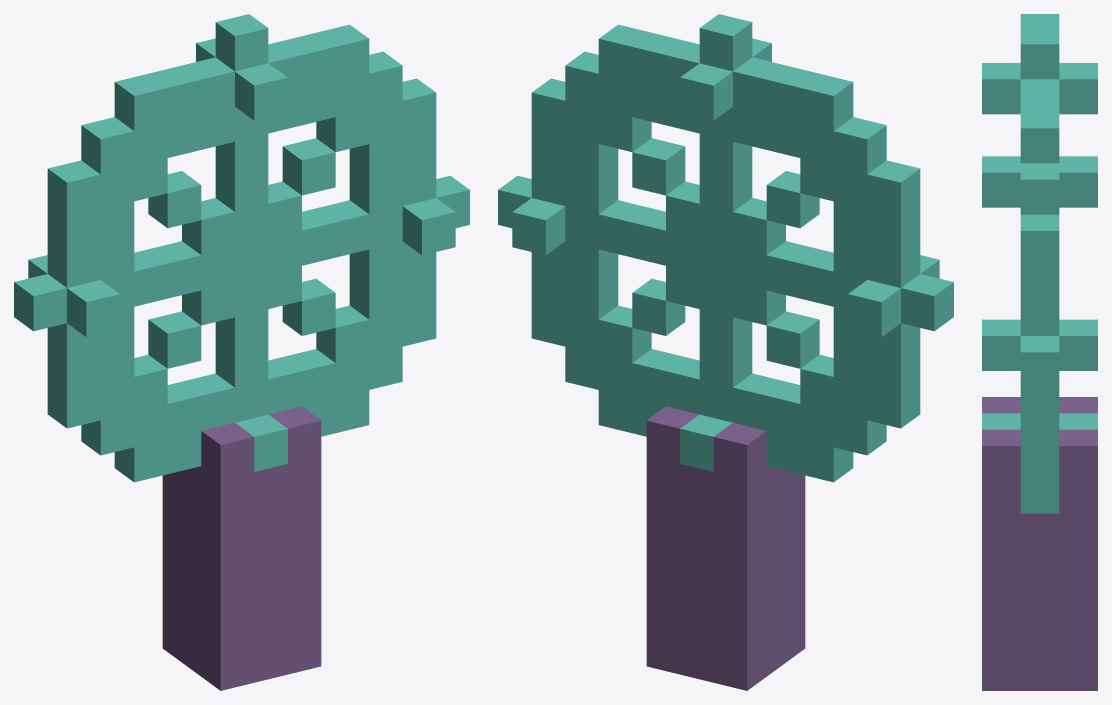
Rendered from alien-biosphere-spoke-bush-a8d14f89__22701.glb.
3 views of the same model, side by side, from view 1: azimuth 30°, elevation 25°; view 2: azimuth 150°, elevation 25°; view 3: azimuth 270°, elevation 25° (orthographic).
Parts seen in each view (by area): view 1: spoke-bush; view 2: spoke-bush; view 3: spoke-bush.
Part boxes in pixels (bbox=[...]): spoke-bush: bbox=[14, 14, 469, 690]; spoke-bush: bbox=[498, 14, 953, 690]; spoke-bush: bbox=[982, 14, 1097, 690].
Bounding box in the file's own units: 1.56 × 2.16 × 0.3599.
